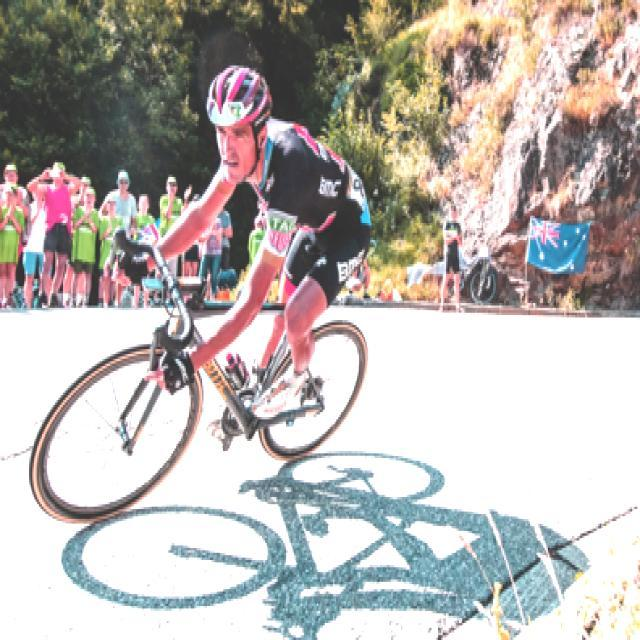Helmet: (205, 56, 270, 190)
